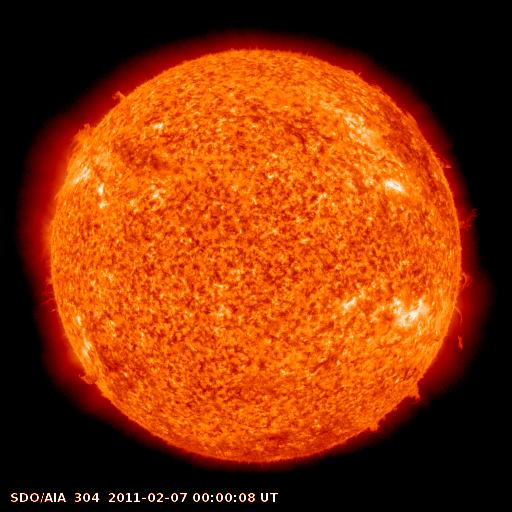prominence: (49, 110, 106, 194), (444, 193, 487, 297), (423, 306, 477, 361), (33, 266, 78, 322), (389, 375, 436, 419), (70, 358, 111, 400), (102, 78, 138, 121), (354, 409, 392, 445)
